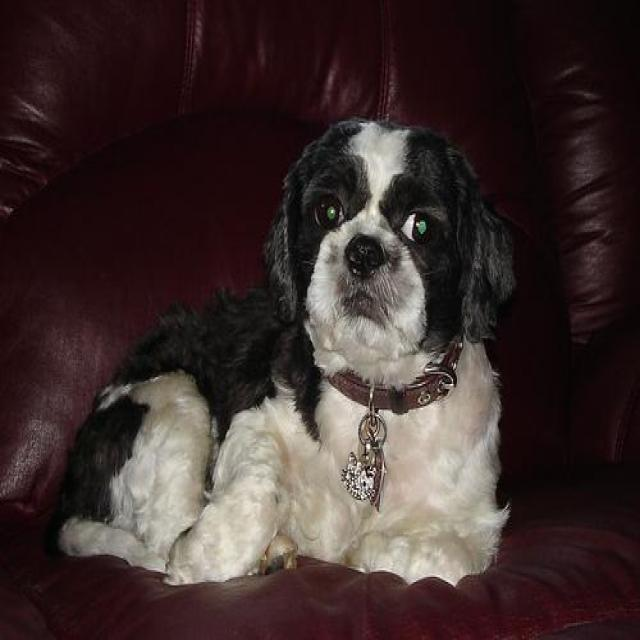shih_tzu: (59, 120, 511, 586)
